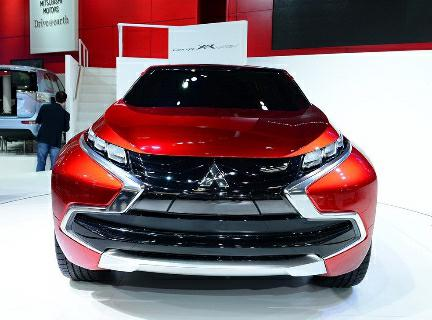三菱-XR-PHEV: (45, 60, 380, 295)
